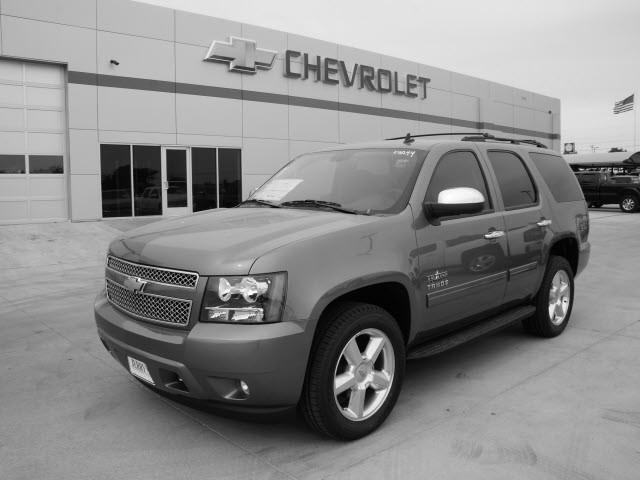car: (95, 132, 591, 441)
